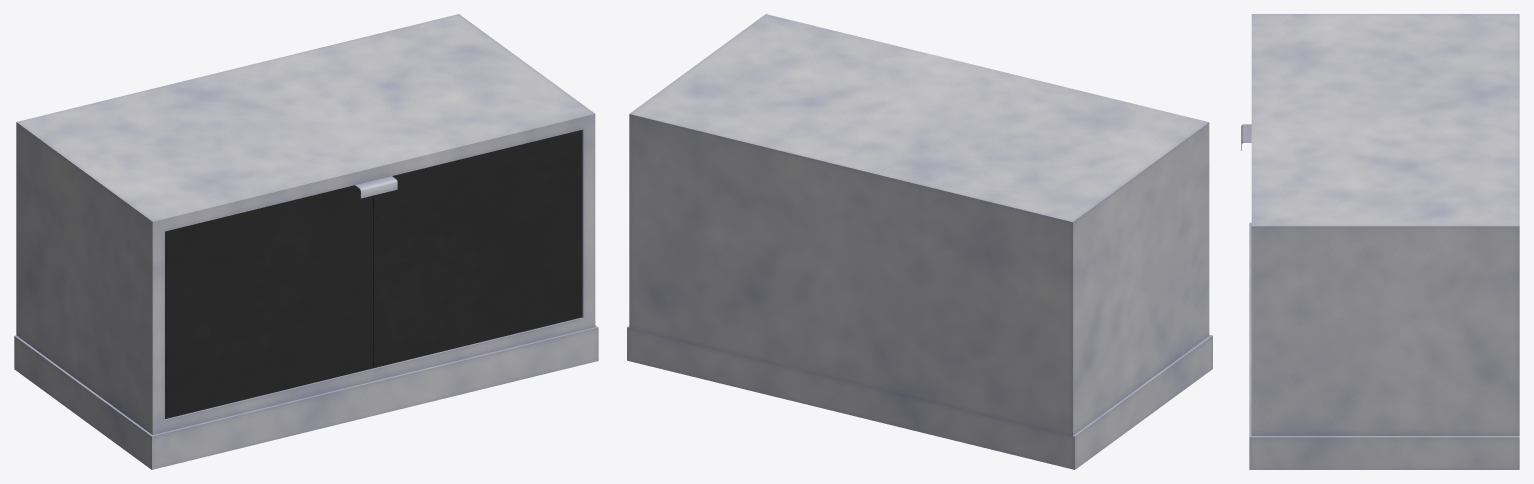
File: LC_3082_Sink_Shelf_LOD3.fbx
3 renders of one model, left to right at view 1: azimuth 30°, elevation 25°; view 2: azimuth 150°, elevation 25°; view 3: azimuth 270°, elevation 25°, orthographic.
Visible parts, largest first — view 1: LC_3082_Sink_Shelf_LOD3; view 2: LC_3082_Sink_Shelf_LOD3; view 3: LC_3082_Sink_Shelf_LOD3.
Boxes of the visible parts, x1,y1,x2,y2 form: LC_3082_Sink_Shelf_LOD3: (14,14,598,469); LC_3082_Sink_Shelf_LOD3: (627,14,1212,469); LC_3082_Sink_Shelf_LOD3: (1241,14,1519,469).
Size of the model in its own units: 151 by 79.87 by 83.15.
1 material, 1 textured.
